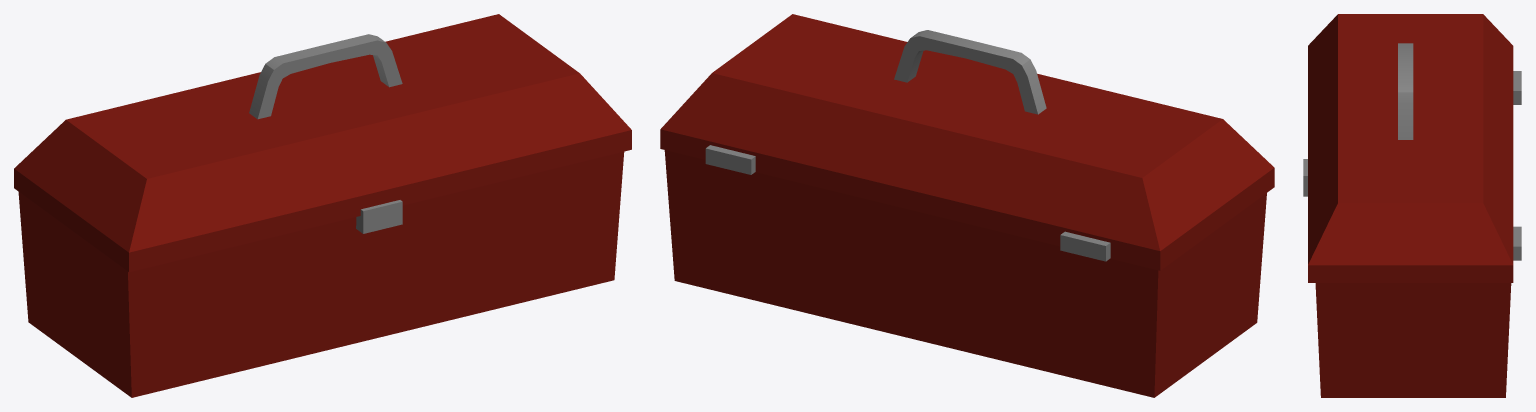
File: toolbox.glb
3 renders of one model, left to right at view 1: azimuth 30°, elevation 25°; view 2: azimuth 150°, elevation 25°; view 3: azimuth 270°, elevation 25°, orthographic. The views are drawn at different scales.
Parts seen in each view (by area): view 1: Toolbox (Handle), Toolbox (Base); view 2: Toolbox (Handle), Toolbox (Base); view 3: Toolbox (Handle), Toolbox (Base).
Boxes of the visible parts, <box> form: Toolbox (Handle): <box>14,14,631,272</box>; Toolbox (Base): <box>18,151,624,397</box>; Toolbox (Handle): <box>660,14,1274,270</box>; Toolbox (Base): <box>664,145,1266,397</box>; Toolbox (Handle): <box>1303,14,1513,282</box>; Toolbox (Base): <box>1315,71,1521,397</box>.
Bounding box in the file's own units: 0.6161 × 0.2995 × 0.2591.
Materials: 2 (2 with a texture image).
